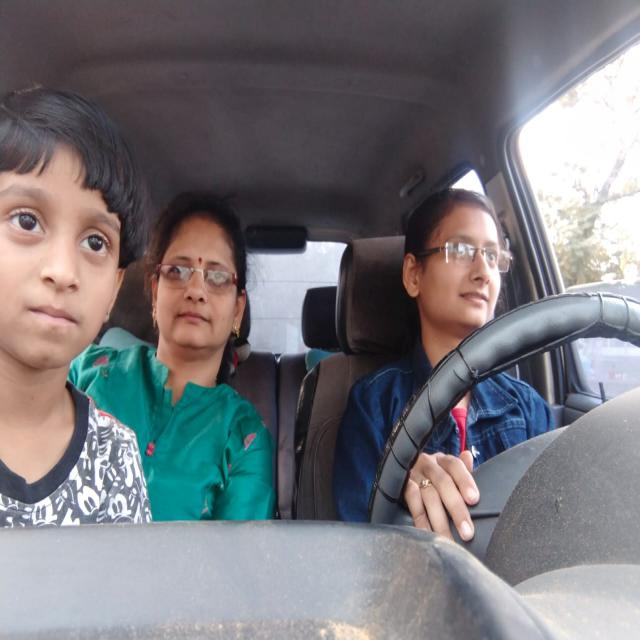person: (0, 80, 146, 390), (389, 174, 524, 355), (154, 191, 260, 392)
